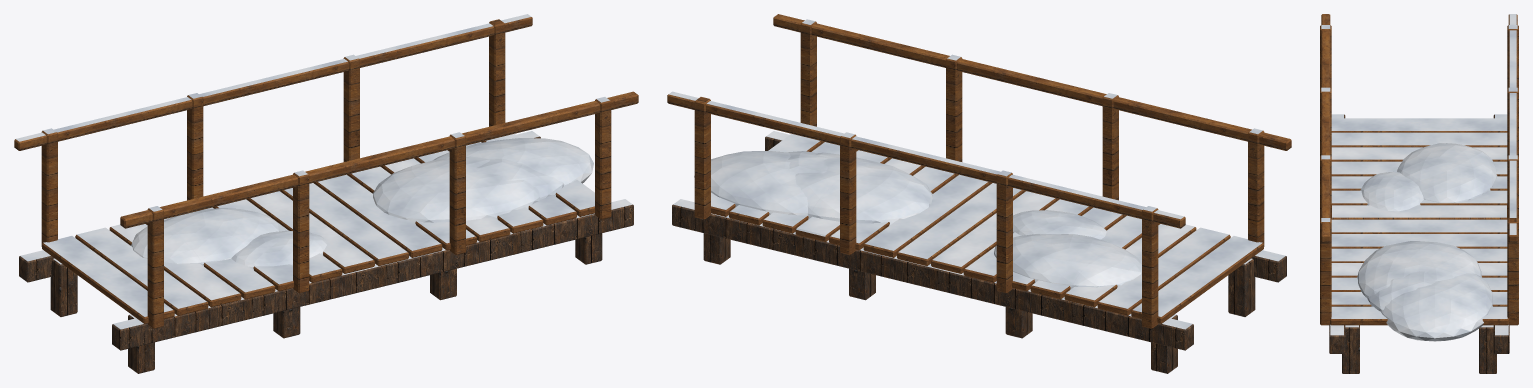
File: frozen-bridge-v01.glb
3 renders of one model, left to right at view 1: azimuth 30°, elevation 25°; view 2: azimuth 150°, elevation 25°; view 3: azimuth 270°, elevation 25°, orthographic. The views are drawn at different scales.
Visible parts, largest first — view 1: frozen-bridge; view 2: frozen-bridge; view 3: frozen-bridge.
Part boxes in pixels (x1=…): frozen-bridge: x1=14, y1=14, x2=638, y2=373; frozen-bridge: x1=667, y1=14, x2=1291, y2=373; frozen-bridge: x1=1320, y1=14, x2=1518, y2=373.
Size of the model in its own units: 4.71 by 1.46 by 1.74.
Materials: 3 (3 with a texture image).
